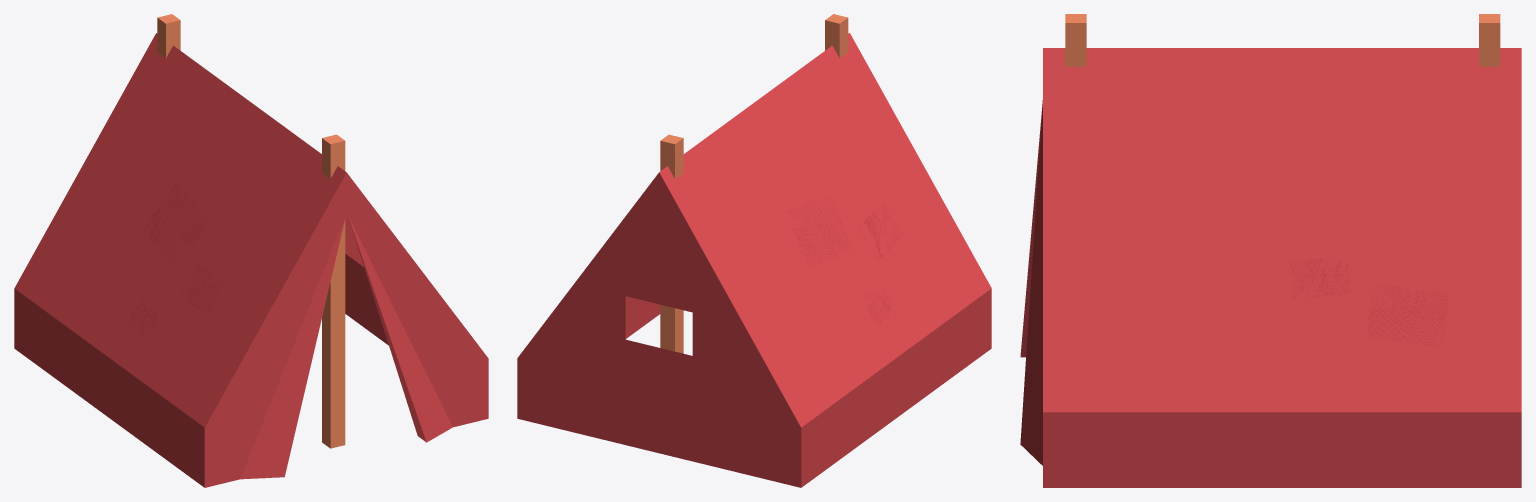
Rendered from tent_smallOpen.dae.
3 views of the same model, side by side, from view 1: azimuth 30°, elevation 25°; view 2: azimuth 150°, elevation 25°; view 3: azimuth 270°, elevation 25° (orthographic). The views are drawn at different scales.
Parts seen in each view (by area): view 1: tent_smallOpen; view 2: tent_smallOpen; view 3: tent_smallOpen.
Part boxes in pixels (x1=…): tent_smallOpen: x1=14, y1=14, x2=488, y2=487; tent_smallOpen: x1=517, y1=14, x2=991, y2=487; tent_smallOpen: x1=1020, y1=14, x2=1521, y2=487.
Size of the model in its own units: 0.5476 by 0.5611 by 0.6664.
